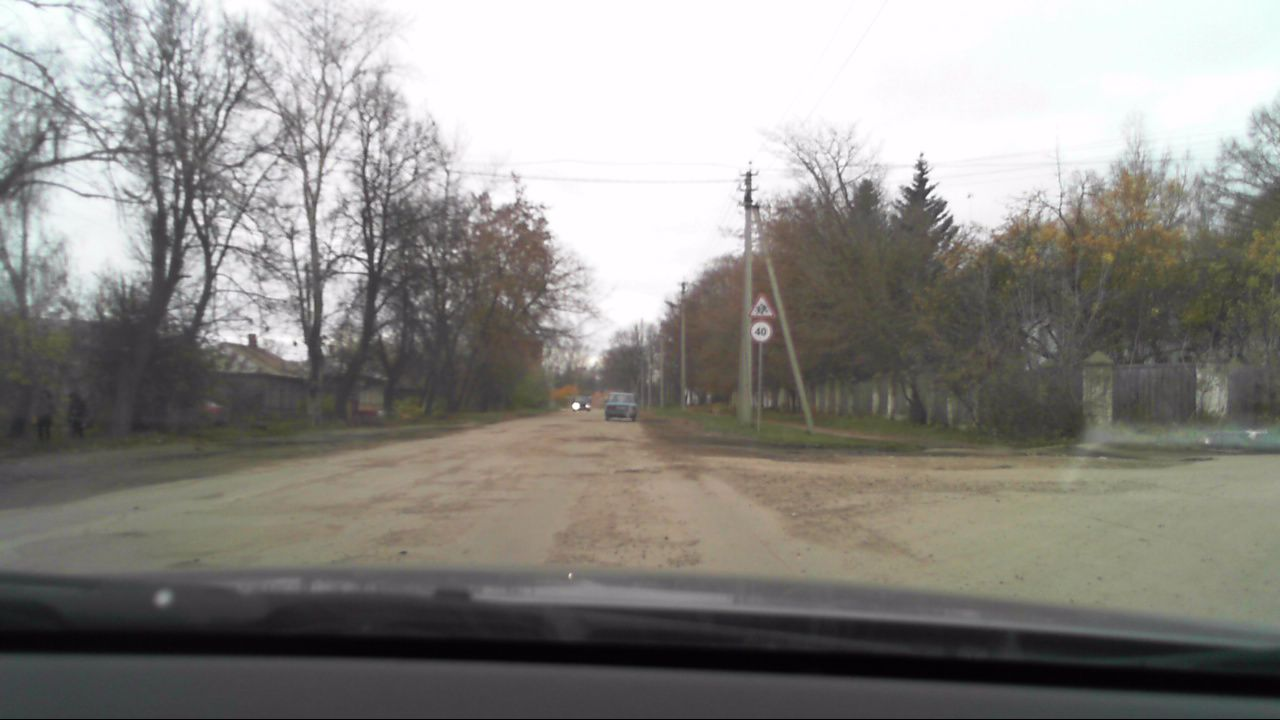speed_warning_40: (749, 322, 773, 343)
